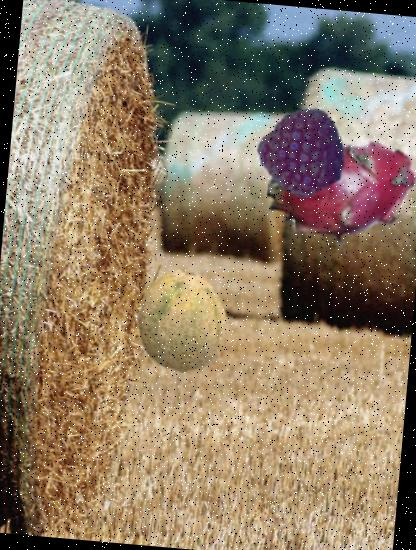Cantaloupe: (126, 266, 240, 378)
Pitahaya: (261, 116, 416, 279)
Raspberry: (256, 107, 350, 201)
